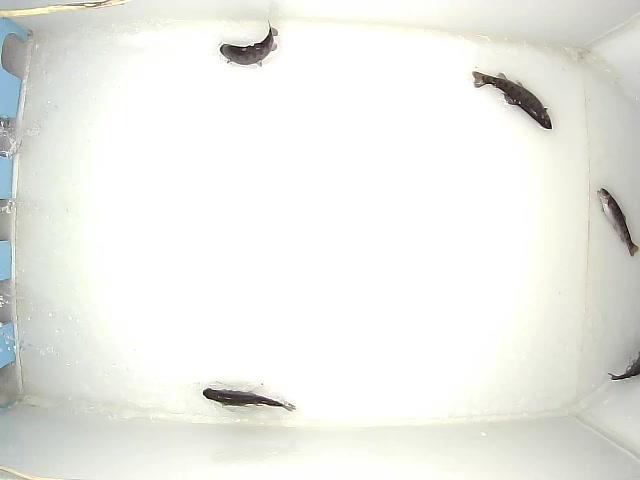fish: (471, 70, 554, 131), (217, 19, 280, 69), (596, 187, 640, 258), (200, 387, 297, 415)
